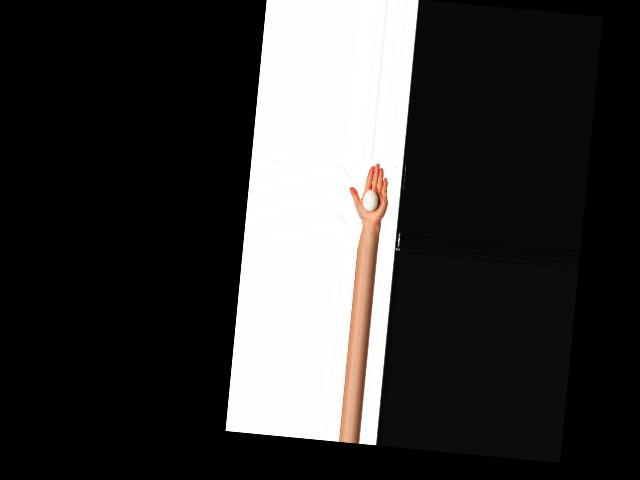egg: (362, 189, 379, 211)
